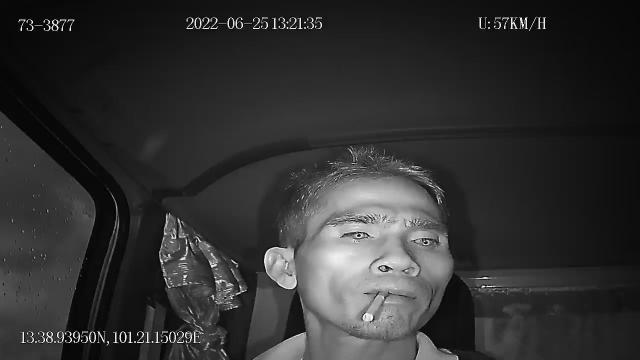SafeDriving: (334, 222, 380, 246), (404, 228, 446, 250)
Smoking: (362, 290, 390, 324)
